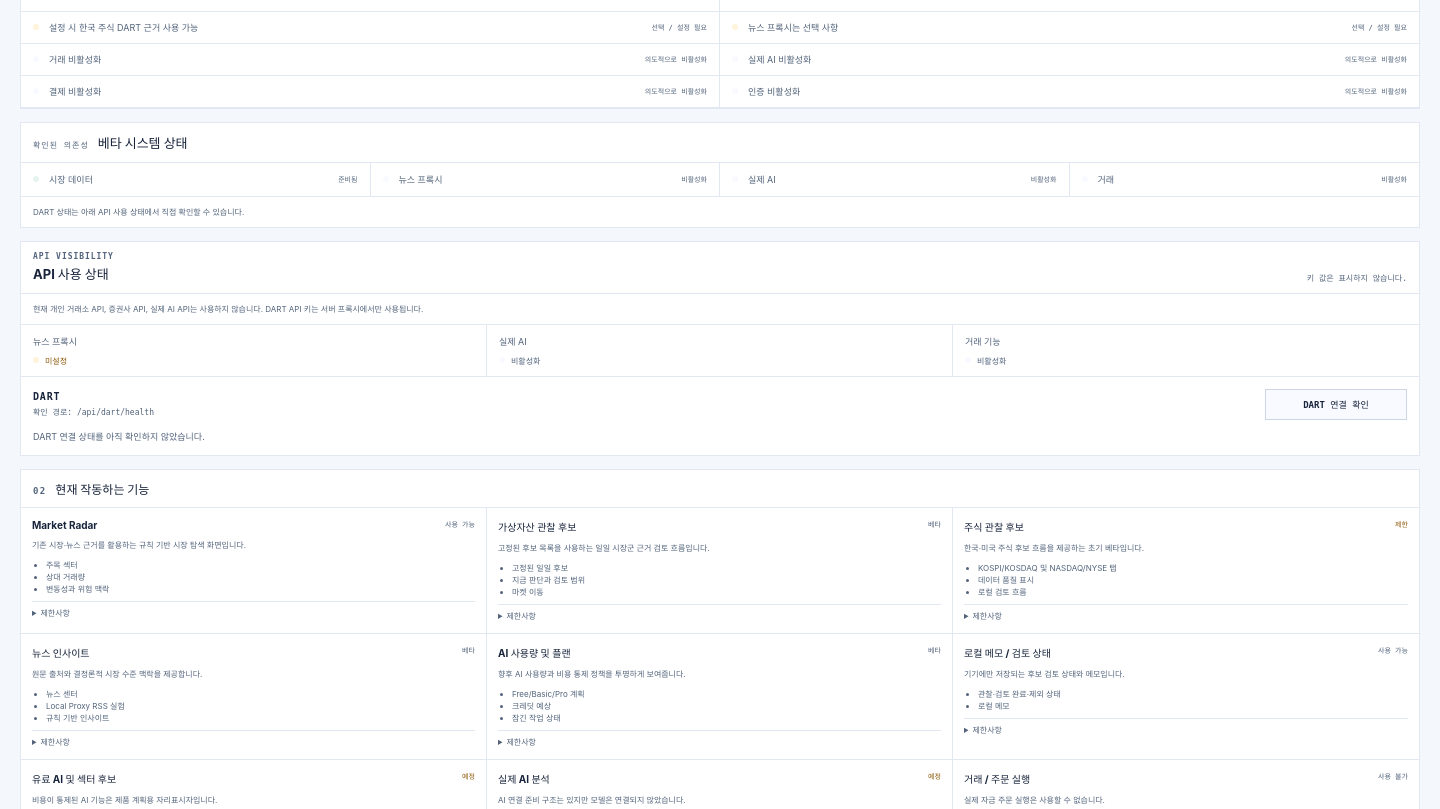
Test case: DemoPage manual DART health integration › does not probe automatically and updates only API Usage after a successful click
This screenshot has width=1440, height=809.
(page scrolled)
Check: the text "DART 프록시" is not shown
Check: the text "DART 연결 상태를 아직 확인하지 않았습니다." is shown, box [33, 431, 205, 442]
Click the button "DART 연결 확인". click: x=1336, y=404
box: [1265, 389, 1407, 420]
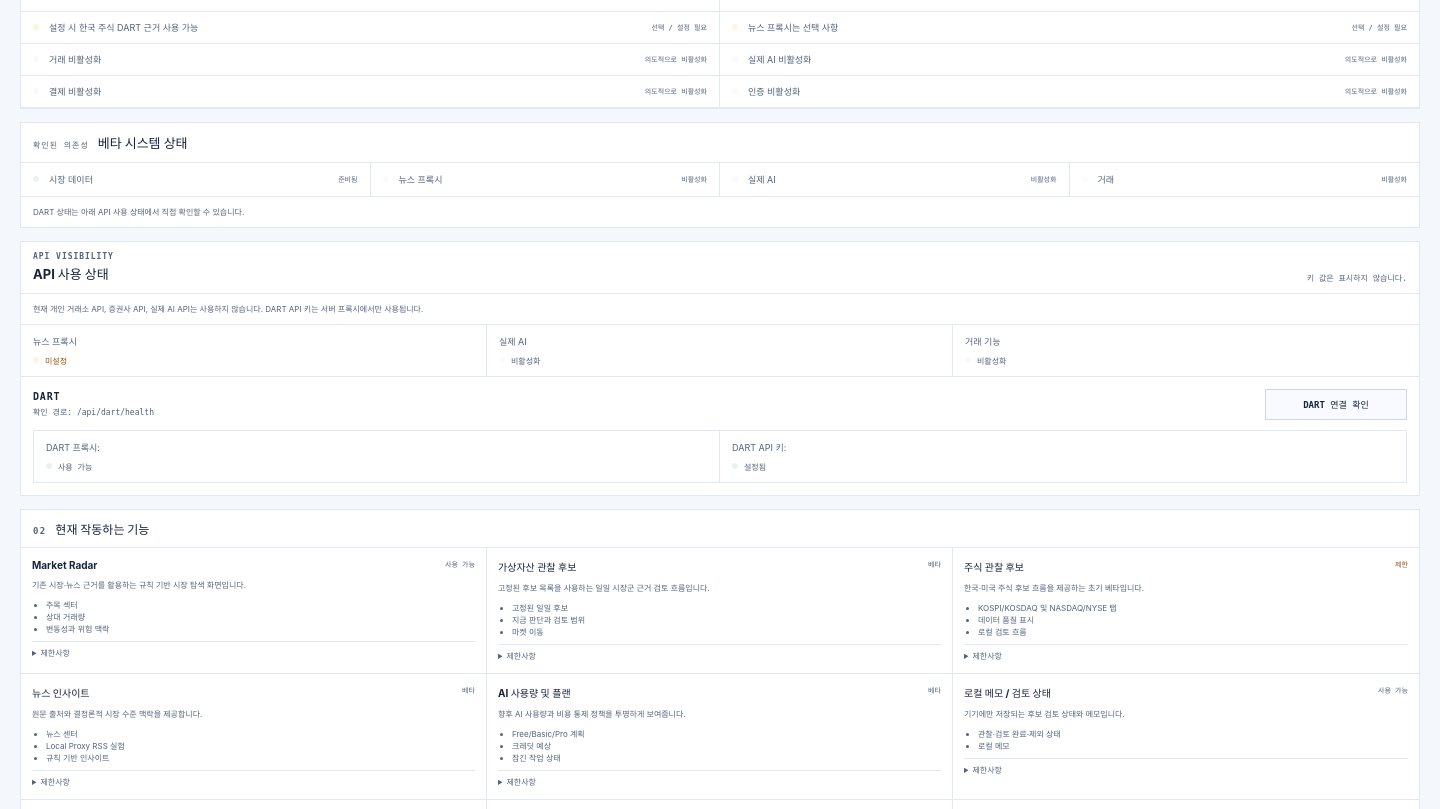
Check: the list item "DART 프록시:" reads "DART 프록시: 사용 가능", box [34, 431, 720, 482]
Check: the list item "DART API 키:" reads "DART API 키: 설정됨", box [732, 442, 786, 472]
